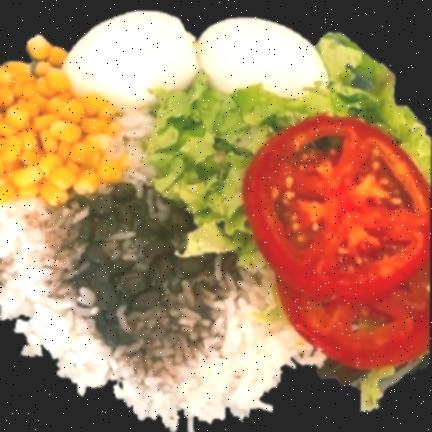beans: (57, 183, 246, 362)
corn: (0, 33, 134, 211)
egg: (62, 10, 322, 108)
rice: (0, 116, 319, 426)
salad: (140, 37, 431, 325)
tomato: (242, 116, 431, 371)
